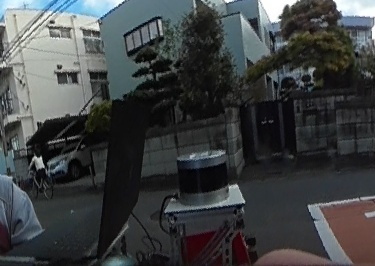person: (30, 146, 47, 188)
